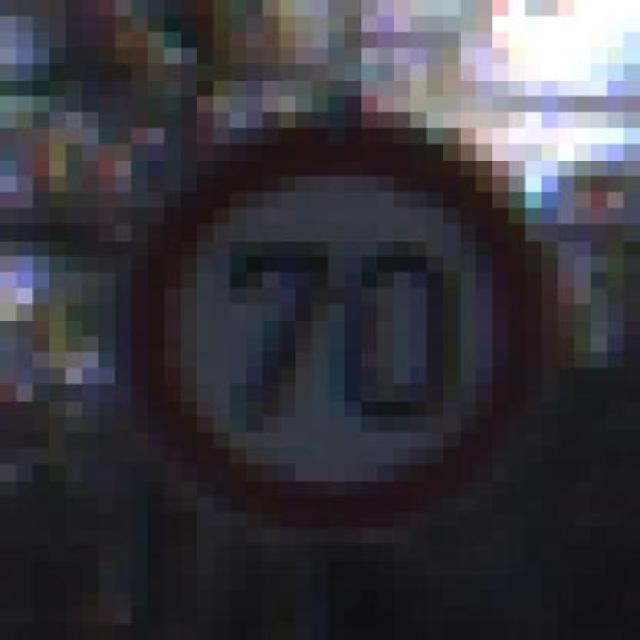forb_speed_over_70: (120, 122, 546, 529)
